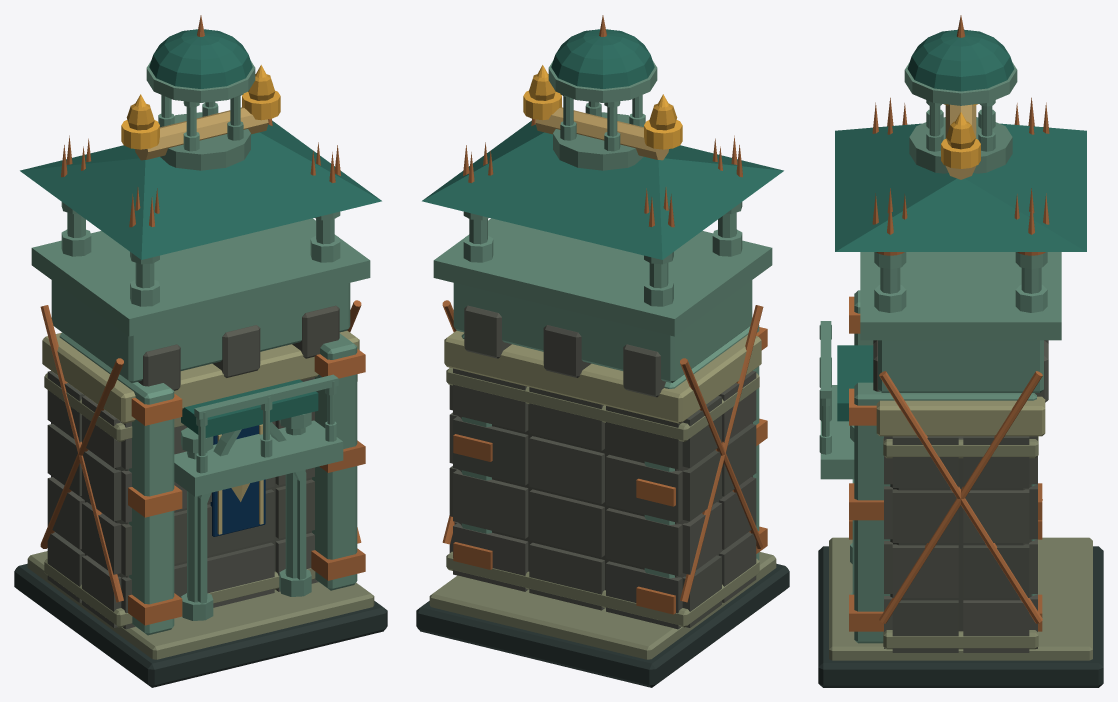
3 views of the same model, side by side, from view 1: azimuth 30°, elevation 25°; view 2: azimuth 150°, elevation 25°; view 3: azimuth 270°, elevation 25° (orthographic). The views are drawn at different scales.
Visible parts, largest first — view 1: wall_L9_0, wall_L9_1; view 2: wall_L9_0, wall_L9_1; view 3: wall_L9_0, wall_L9_1.
Part boxes in pixels (x1,y1,x2,y2): wall_L9_0: (14, 29, 387, 687); wall_L9_1: (40, 15, 365, 625); wall_L9_0: (416, 29, 789, 687); wall_L9_1: (442, 15, 767, 614); wall_L9_0: (818, 29, 1103, 687); wall_L9_1: (849, 15, 1049, 631).
Size of the model in its own units: 1.9 by 4.43 by 1.86.
